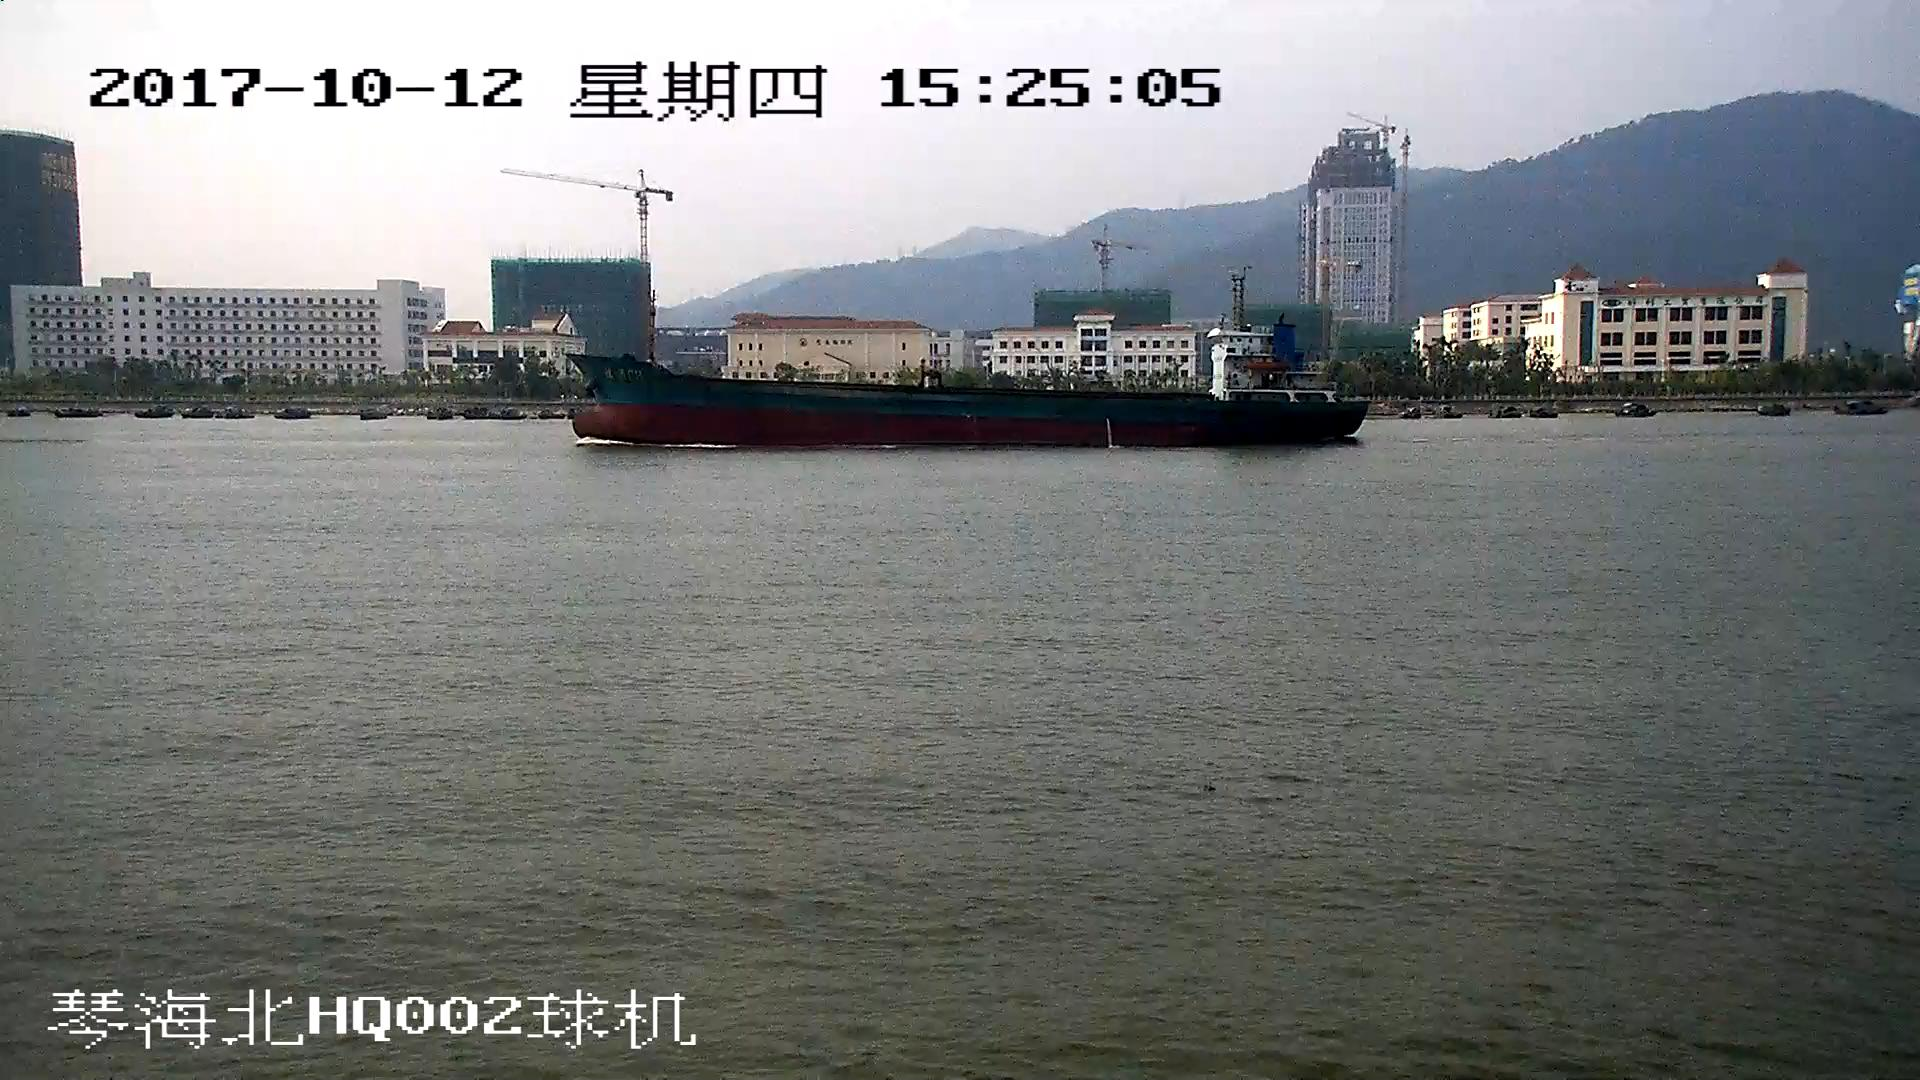general cargo ship: (571, 317, 1366, 444)
